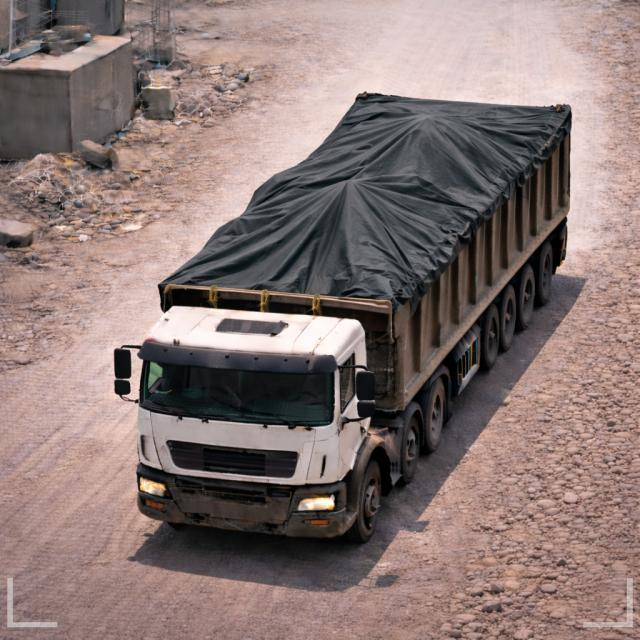Box: (157, 91, 567, 305)
Truck: (111, 82, 580, 529)
